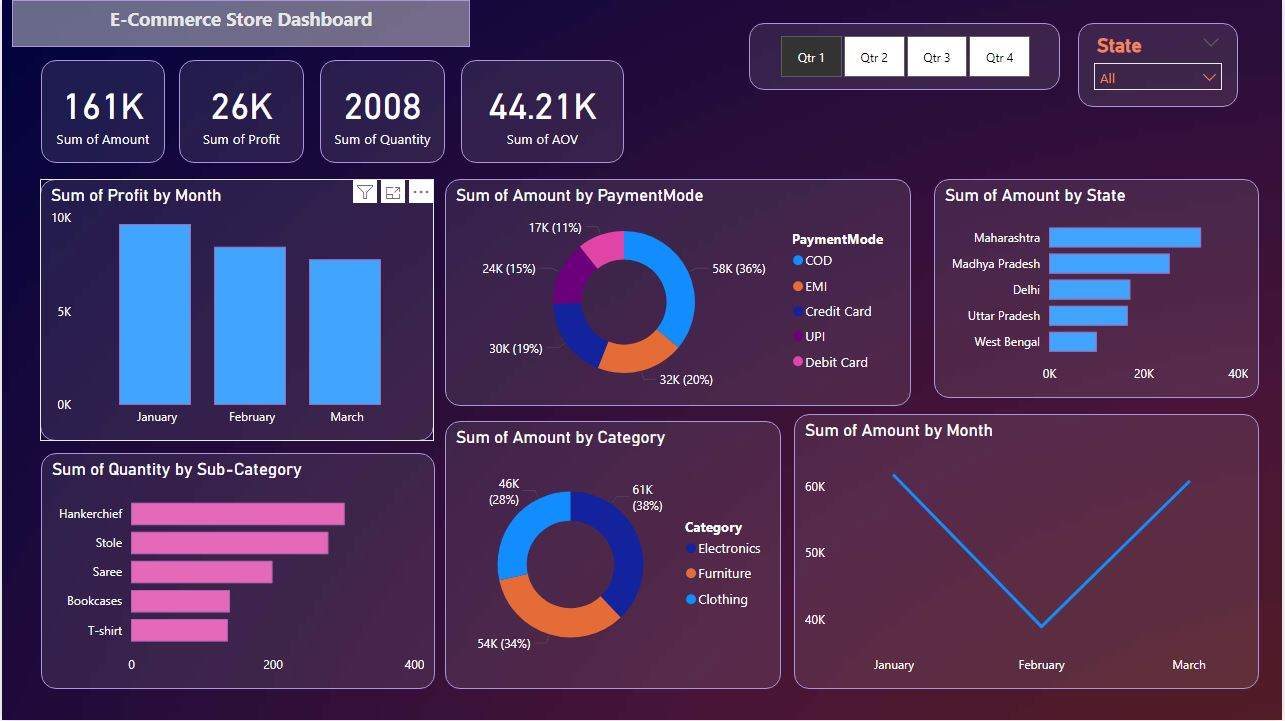

What the dashboard file says about the page in this screenshot:
{"tool":"powerbi","page":{"name":"Page 1","canvas":[1280,720],"ordinal":0},"visuals":[{"type":"textbox","box":[9.7,0,458.1,46.7],"z":0},{"type":"clusteredColumnChart","fields":{"Y":["Sum(Details.Profit)"],"Category":["Orders.Order Date.Variation.Date Hierarchy.Month"]},"box":[37.9,179,393.9,261.6],"z":1000},{"type":"lineChart","fields":{"Category":["Orders.Order Date.Variation.Date Hierarchy.Month"],"Y":["Sum(Details.Amount)"]},"box":[791.7,414.3,464.9,274.3],"z":2000},{"type":"barChart","fields":{"Category":["Details.Sub-Category"],"Y":["Sum(Details.Quantity)"]},"box":[38.9,453.3,393.9,235.4],"z":3000},{"type":"donutChart","fields":{"Category":["Details.Category"],"Y":["Sum(Details.Amount)"]},"box":[442.6,421.2,336.5,267.5],"z":4000},{"type":"donutChart","fields":{"Category":["Details.PaymentMode"],"Y":["Sum(Details.Amount)"]},"box":[442.6,179,466.9,226.6],"z":5000},{"type":"card","fields":{"Values":["Sum(Details.Amount)"]},"box":[38.9,60.3,124.5,103.1],"z":6000},{"type":"card","fields":{"Values":["Sum(Details.Profit)"]},"box":[177,60.3,124.5,103.1],"z":7000},{"type":"card","fields":{"Values":["Sum(Details.Quantity)"]},"box":[318.1,60.3,124.5,103.1],"z":8000},{"type":"card","fields":{"Values":["Sum(Details.AOV)"]},"box":[459.1,60.3,162.4,103.1],"z":9000},{"type":"barChart","fields":{"Category":["Orders.State"],"Y":["Sum(Details.Amount)"]},"box":[931.8,179,324.9,218.8],"z":10000},{"type":"slicer","fields":{"Values":["Orders.State"]},"box":[1075.7,23.3,160.5,83.6],"z":11000},{"type":"slicer","fields":{"Values":["Orders.Order Date.Variation.Date Hierarchy.Quarter"]},"box":[747,23.3,311.2,67.1],"z":12000}]}

Visuals, with their boxes in screenshot pixels (x1, y1, x2, y2), scaled from the page's 1280x720 canvas onto the 1285x721 screenshot:
textbox: 10:0:470:47
clusteredColumnChart - Sum(Details.Profit) x Orders.Order Date.Variation.Date Hierarchy.Month: 38:179:433:441
lineChart - Orders.Order Date.Variation.Date Hierarchy.Month x Sum(Details.Amount): 795:415:1262:690
barChart - Details.Sub-Category x Sum(Details.Quantity): 39:454:434:690
donutChart - Details.Category x Sum(Details.Amount): 444:422:782:690
donutChart - Details.PaymentMode x Sum(Details.Amount): 444:179:913:406
card - Sum(Details.Amount): 39:60:164:164
card - Sum(Details.Profit): 178:60:303:164
card - Sum(Details.Quantity): 319:60:444:164
card - Sum(Details.AOV): 461:60:624:164
barChart - Orders.State x Sum(Details.Amount): 935:179:1262:398
slicer - Orders.State: 1080:23:1241:107
slicer - Orders.Order Date.Variation.Date Hierarchy.Quarter: 750:23:1062:91
